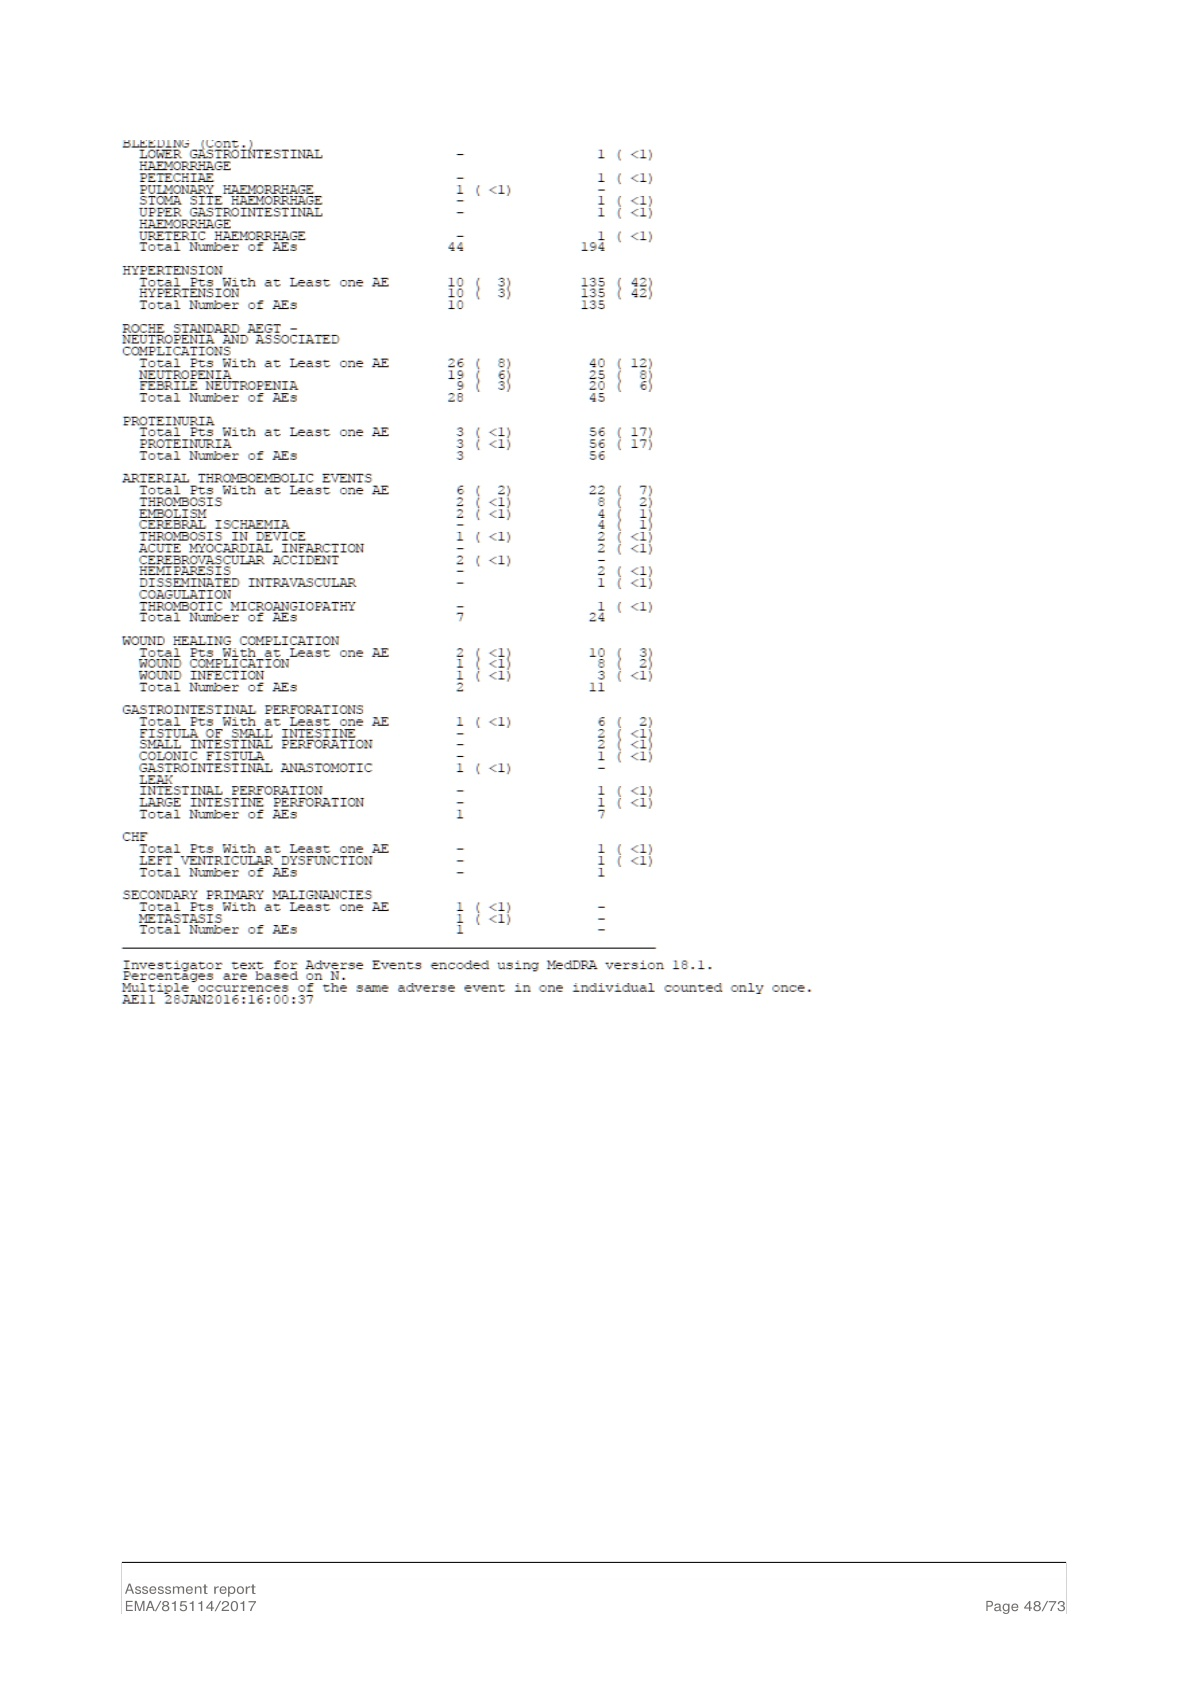nolines: (118, 135, 658, 938)
